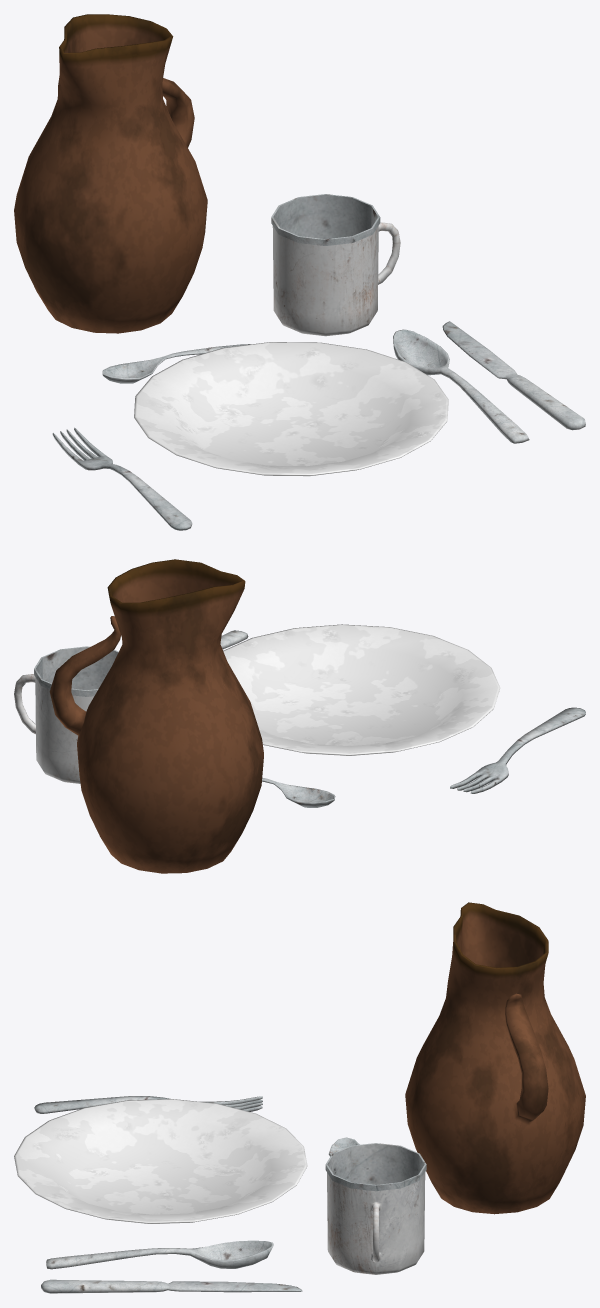
File: dinnerware.glb
3 views of the same model, one above another, from view 1: azimuth 30°, elevation 25°; view 2: azimuth 150°, elevation 25°; view 3: azimuth 270°, elevation 25° (orthographic). The views are drawn at different scales.
Parts seen in each view (by area): view 1: Jarra, PlatoLP, Taza, CucharaLP, CuchilloLP, TenedorLP, CucharillaLP; view 2: Jarra, PlatoLP, Taza, TenedorLP, CucharillaLP; view 3: Jarra, PlatoLP, Taza, CucharaLP, CuchilloLP, TenedorLP.
Part boxes in pixels (left/top/right/bottom): Jarra: left=14, top=14, right=207, bottom=333; PlatoLP: left=134, top=342, right=448, bottom=476; Taza: left=271, top=194, right=400, bottom=336; CucharaLP: left=393, top=329, right=529, bottom=443; CuchilloLP: left=442, top=321, right=585, bottom=430; TenedorLP: left=52, top=427, right=192, bottom=530; CucharillaLP: left=102, top=344, right=250, bottom=383; Jarra: left=49, top=559, right=263, bottom=873; PlatoLP: left=223, top=624, right=500, bottom=755; Taza: left=14, top=646, right=118, bottom=783; TenedorLP: left=450, top=707, right=585, bottom=793; CucharillaLP: left=262, top=777, right=335, bottom=807; Jarra: left=405, top=902, right=585, bottom=1214; PlatoLP: left=14, top=1099, right=307, bottom=1223; Taza: left=325, top=1143, right=426, bottom=1274; CucharaLP: left=46, top=1240, right=273, bottom=1269; CuchilloLP: left=41, top=1279, right=302, bottom=1293; TenedorLP: left=34, top=1096, right=262, bottom=1113.
Bounding box in the file's own units: 0.3942 × 0.2503 × 0.5006.
1 material, 1 textured.
